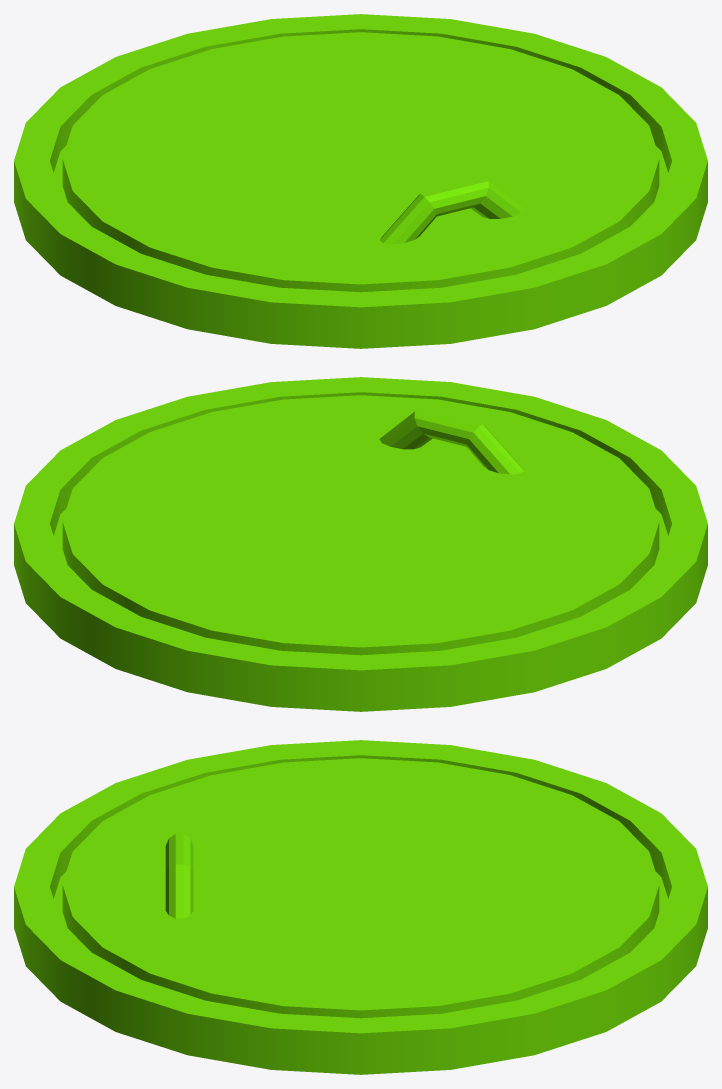
Rendered from Tampa do bueiro.fbx.
3 views of the same model, one above another, from view 1: azimuth 30°, elevation 25°; view 2: azimuth 150°, elevation 25°; view 3: azimuth 270°, elevation 25° (orthographic).
Parts seen in each view (by area): view 1: pDisc4; view 2: pDisc4; view 3: pDisc4.
Boxes of the visible parts, x1,y1,x2,y2 form: pDisc4: (14,14,707,348); pDisc4: (14,377,707,711); pDisc4: (14,740,707,1074).
Size of the model in its own units: 127 by 16.27 by 127.
